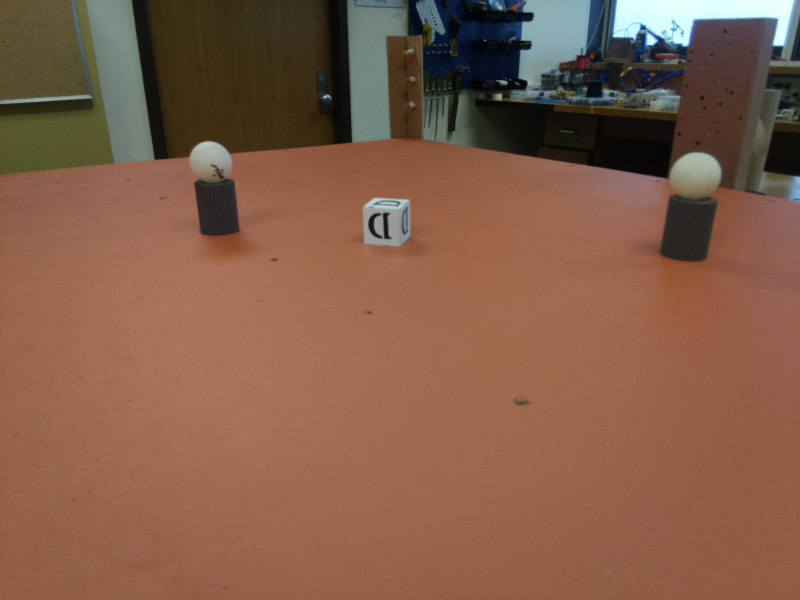blockD: (361, 199, 410, 247)
corner: (389, 34, 425, 141)
obstacle: (665, 152, 721, 262), (189, 138, 234, 235)
